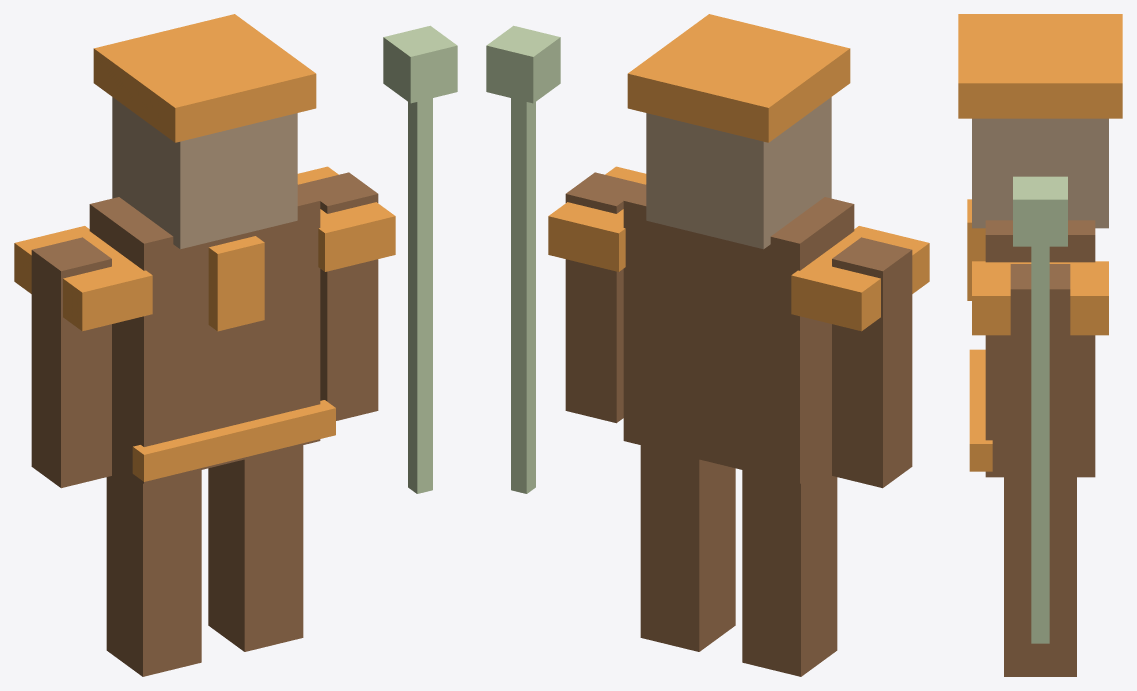
The model's file is 15_thorne_cragwarden_keeper_of_inferno.glb.
3 views of the same model, side by side, from view 1: azimuth 30°, elevation 25°; view 2: azimuth 150°, elevation 25°; view 3: azimuth 270°, elevation 25° (orthographic).
Parts seen in each view (by area): view 1: Thorne Cragwarden, Keeper of Inferno; view 2: Thorne Cragwarden, Keeper of Inferno; view 3: Thorne Cragwarden, Keeper of Inferno.
Part boxes in pixels (x1,y1,x2,y2): Thorne Cragwarden, Keeper of Inferno: [14, 14, 457, 676]; Thorne Cragwarden, Keeper of Inferno: [486, 14, 929, 676]; Thorne Cragwarden, Keeper of Inferno: [958, 14, 1122, 676].
Size of the model in its own units: 1.08 by 1.51 by 0.3824.
